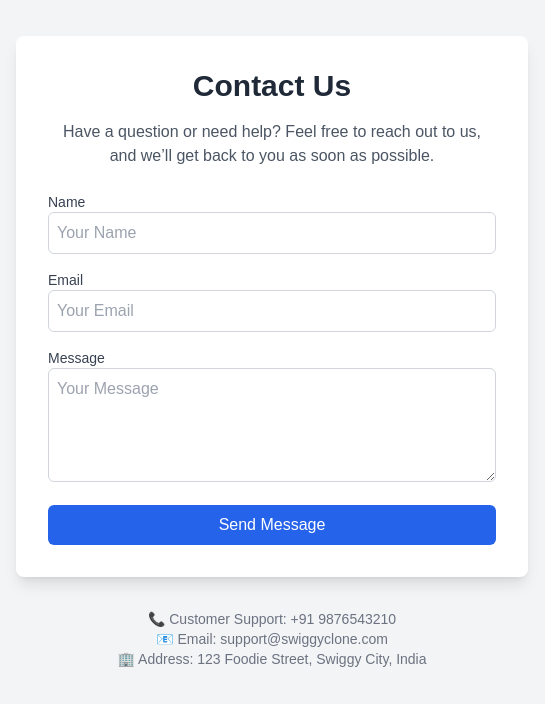
Test: ContactUs Component › shows error message if form is submitted with empty fields
The width and height of the screenshot is (545, 704).
Click the button "Send Message" at (272, 524), box [48, 504, 496, 544]
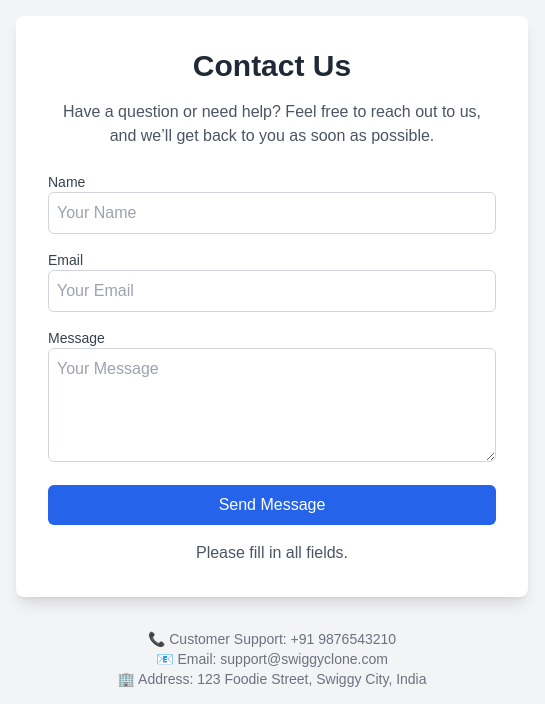
Check: the text "Please fill in all fields." is shown, box [196, 544, 348, 560]
